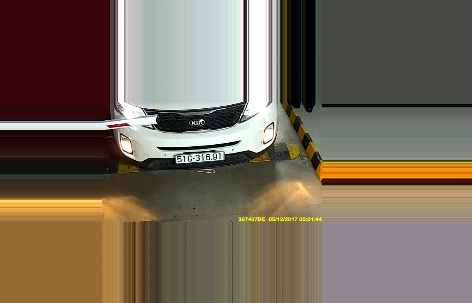plate: (173, 150, 223, 165)
